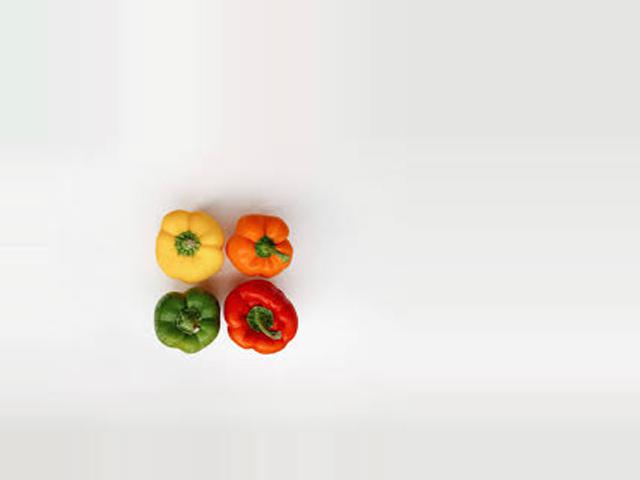bell_pepper: (132, 280, 235, 356)
